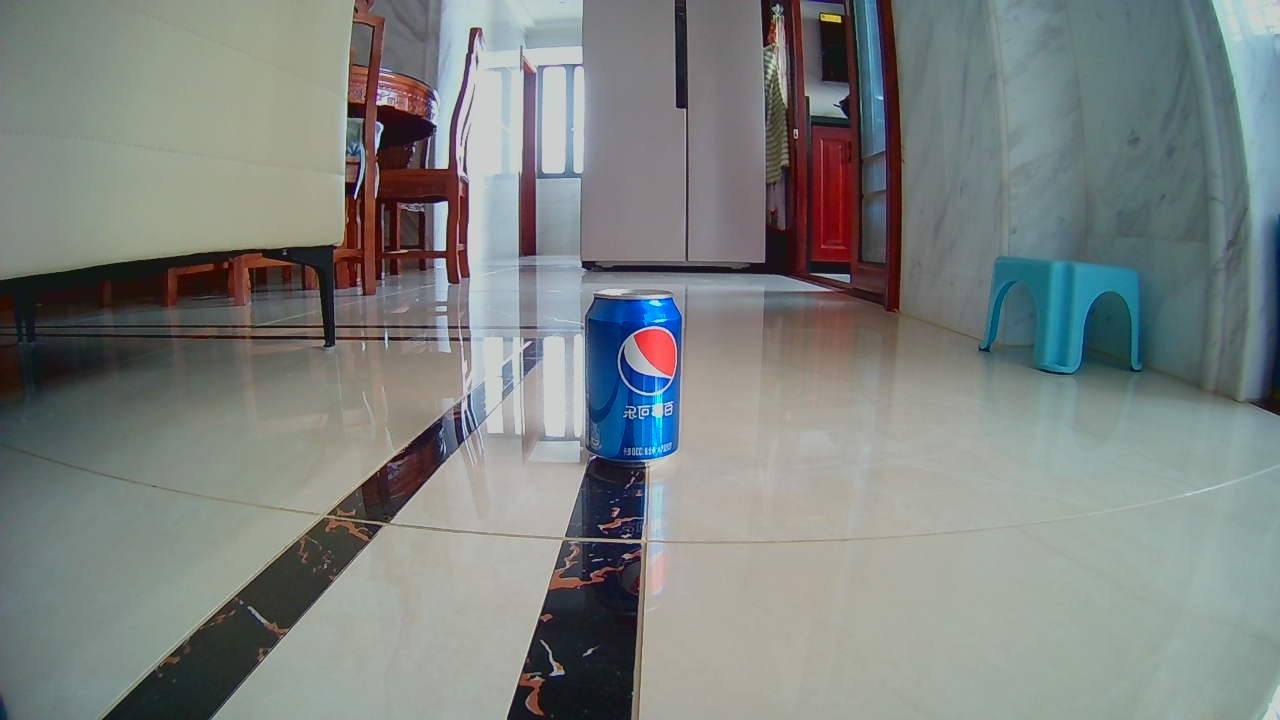pessi: (583, 289, 677, 458)
